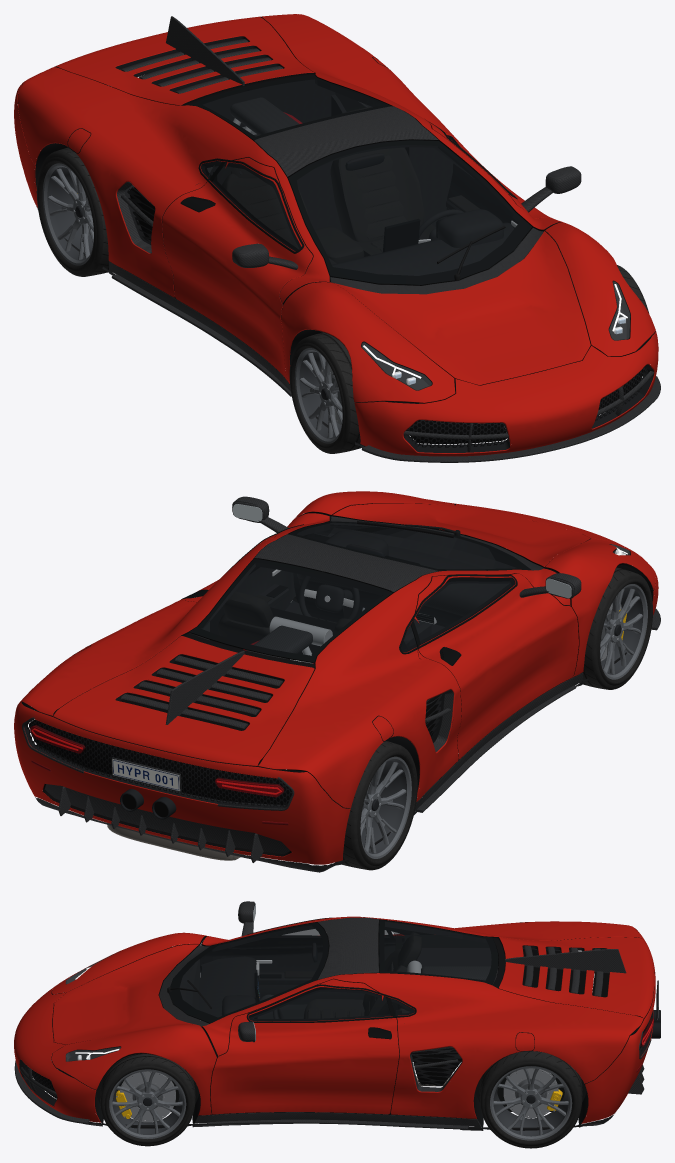
File: hypercar.glb
The picture shows the model from 3 angles, top to bottom: view 1: azimuth 30°, elevation 25°; view 2: azimuth 150°, elevation 25°; view 3: azimuth 270°, elevation 25°; orthographic projection. The views are drawn at different scales.
Visible parts, largest first — view 1: Body, Wheel_RR, Wheel_FR; view 2: Body, Wheel_RR, Wheel_FR, Steering_Wheel; view 3: Body, Wheel_RL, Wheel_FL.
Boxes of the visible parts, <box> form: Body: <box>14,14,660,462</box>; Wheel_RR: <box>36,147,108,276</box>; Wheel_FR: <box>289,332,365,453</box>; Body: <box>14,491,660,872</box>; Wheel_RR: <box>335,741,417,870</box>; Wheel_FR: <box>579,567,652,689</box>; Steering_Wheel: <box>298,575,359,619</box>; Body: <box>14,901,660,1130</box>; Wheel_RL: <box>479,1051,582,1148</box>; Wheel_FL: <box>100,1054,195,1146</box>.
Size of the model in its own units: 2.15 by 1.11 by 4.46.
60 materials, 12 textured.
